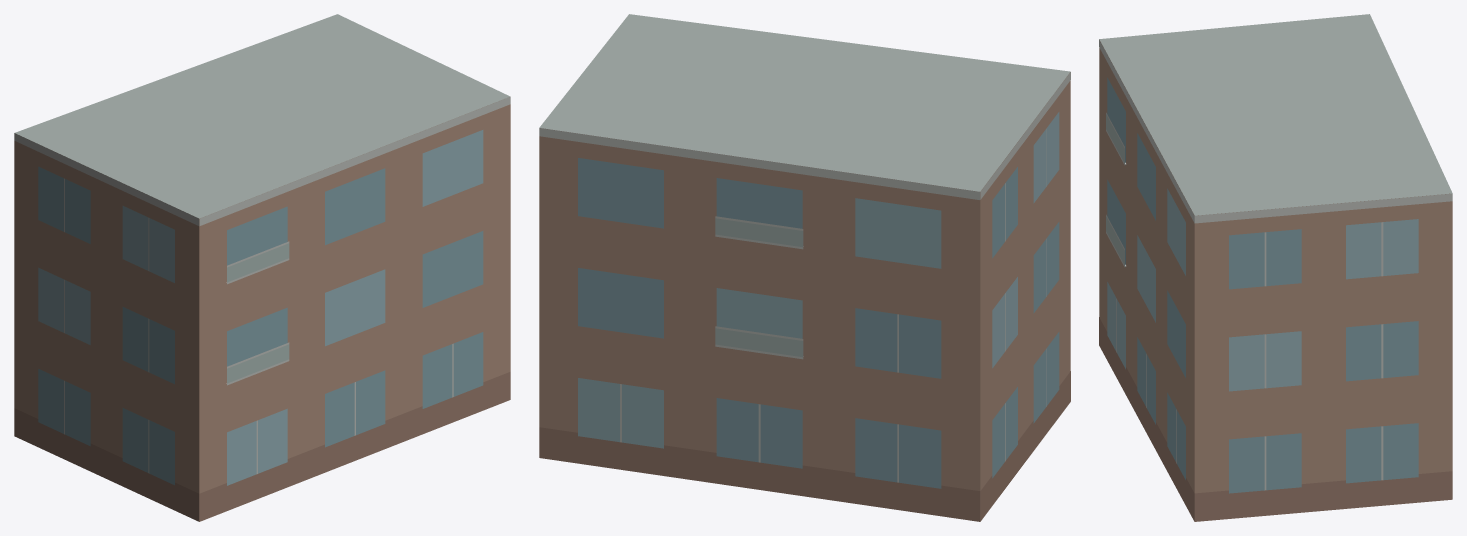
Rendered from survey-upis-32517089.glb.
3 renders of one model, left to right at view 1: azimuth 30°, elevation 25°; view 2: azimuth 150°, elevation 25°; view 3: azimuth 270°, elevation 25°, orthographic. The views are drawn at different scales.
Parts seen in each view (by area): view 1: survey-upis-32517089.tmp; view 2: survey-upis-32517089.tmp; view 3: survey-upis-32517089.tmp.
Boxes of the visible parts, x1,y1,x2,y2 form: survey-upis-32517089.tmp: (14,14,510,521); survey-upis-32517089.tmp: (539,14,1070,521); survey-upis-32517089.tmp: (1099,14,1452,521).
Bounding box in the file's own units: 13.57 × 9.6 × 10.06.
